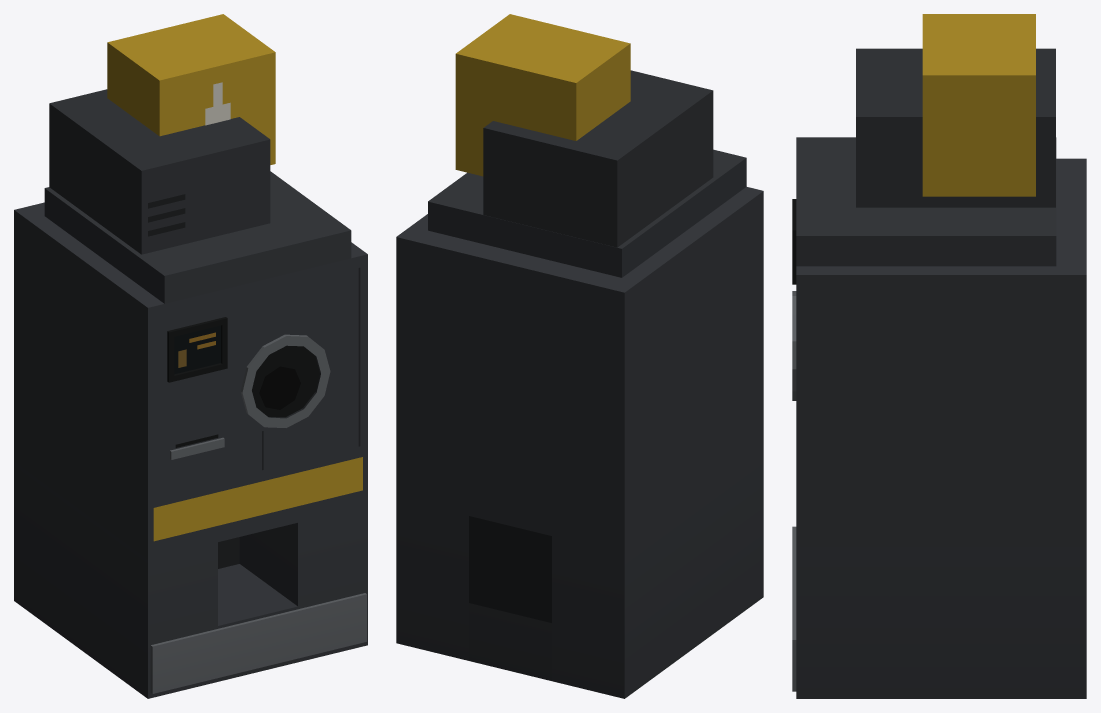
Rendered from shop.bottle_return.dark.glb.
3 views of the same model, side by side, from view 1: azimuth 30°, elevation 25°; view 2: azimuth 150°, elevation 25°; view 3: azimuth 270°, elevation 25° (orthographic). The views are drawn at different scales.
Visible parts, largest first — view 1: shop_bottle_return_dark; view 2: shop_bottle_return_dark; view 3: shop_bottle_return_dark.
Boxes of the visible parts, <box> form: shop_bottle_return_dark: <box>14,14,367,698</box>; shop_bottle_return_dark: <box>396,14,763,698</box>; shop_bottle_return_dark: <box>792,14,1086,698</box>.
Size of what is drawn, in the model's own units: 0.824 by 2 by 0.881.
